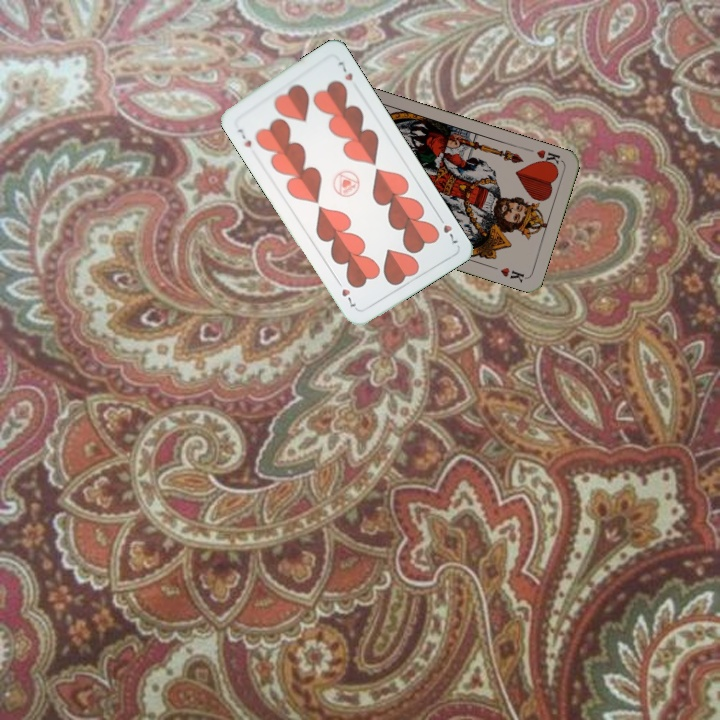H7: (434, 211, 461, 248), (233, 125, 254, 150)
HK: (532, 146, 564, 170)
